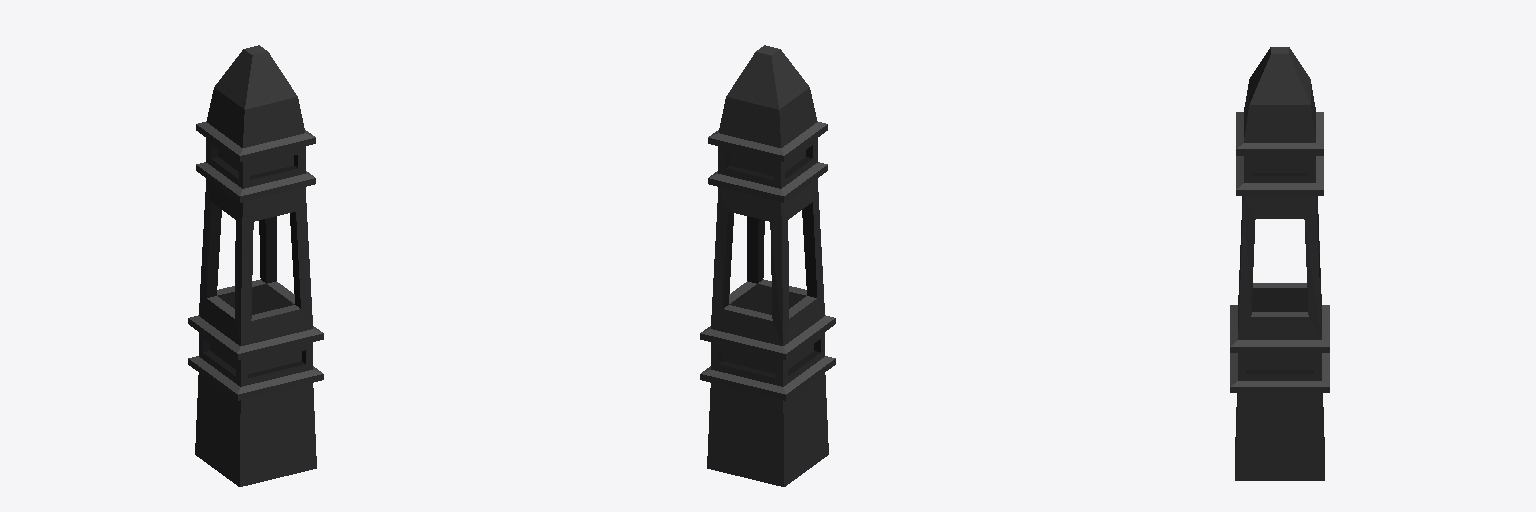
File: obelisk.obj
The picture shows the model from 3 angles: view 1: azimuth 30°, elevation 25°; view 2: azimuth 150°, elevation 25°; view 3: azimuth 270°, elevation 25°; orthographic projection.
Bounding box in the file's own units: 142 × 650 × 142.